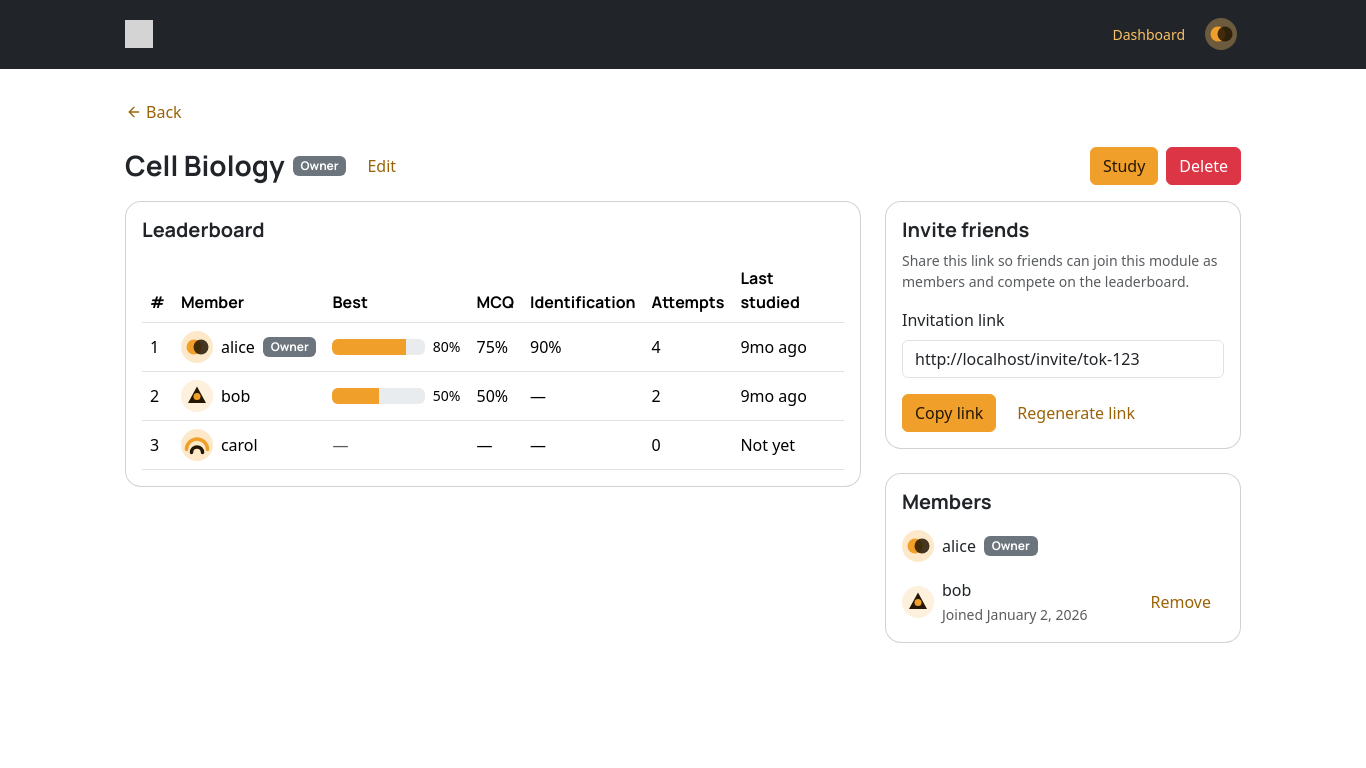
Scenario: invitation controls › offers a copy link that writes to the clipboard
Click the button "Copy link".
click(949, 413)  # box [902,394,996,432]
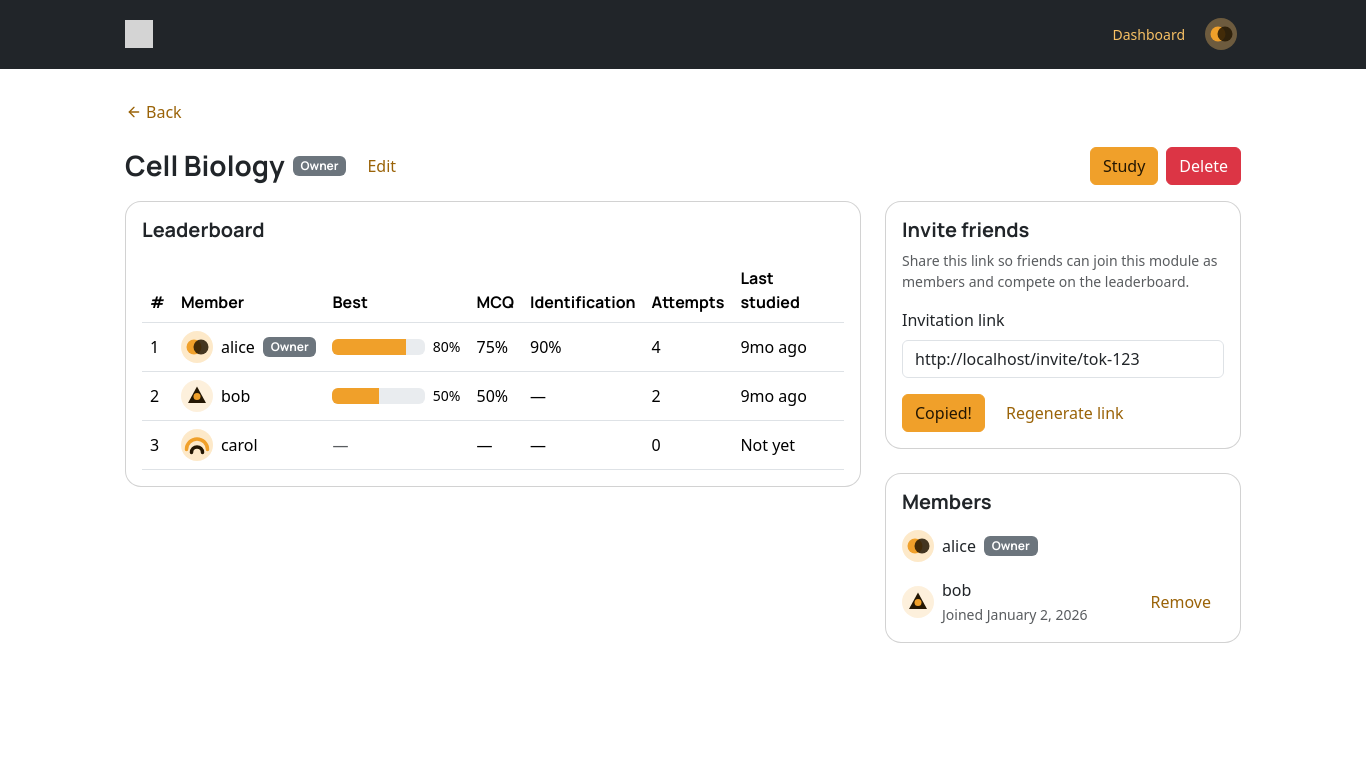
Expected: the button "Copied!" is shown, [902,394,985,432]
